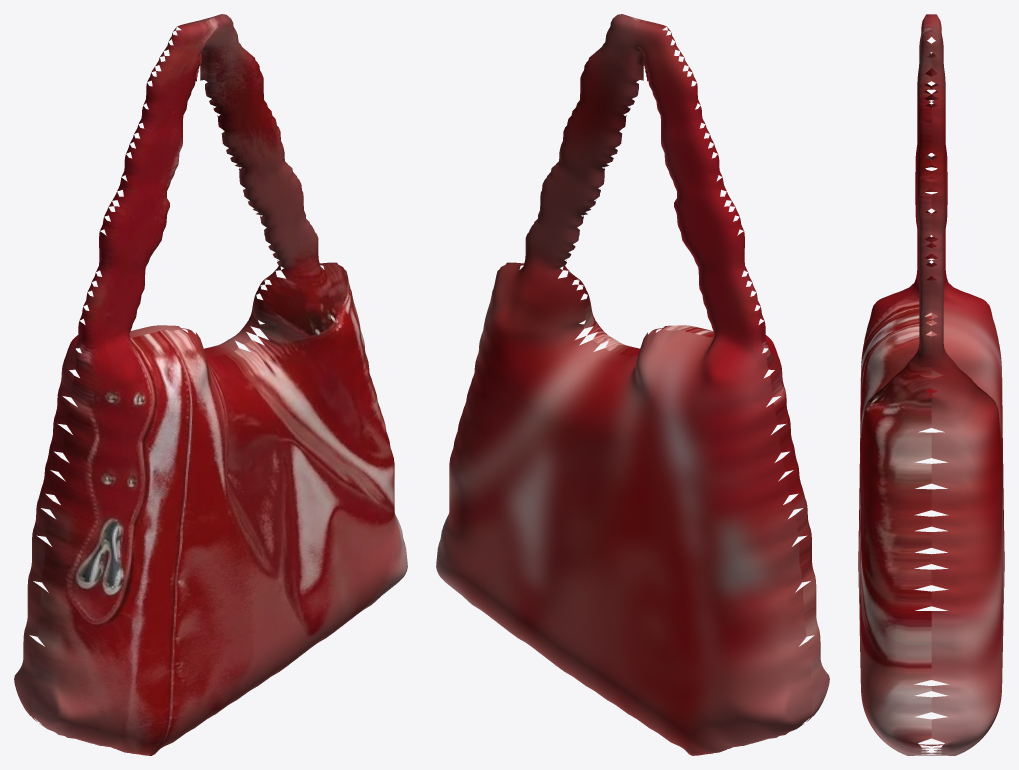
File: arenal-red.glb
The picture shows the model from 3 angles, left to right: view 1: azimuth 30°, elevation 25°; view 2: azimuth 150°, elevation 25°; view 3: azimuth 270°, elevation 25°; orthographic projection. The views are drawn at different scales.
Visible parts, largest first — view 1: arenal-red; view 2: arenal-red; view 3: arenal-red.
Part boxes in pixels (x1,y1,x2,y2): arenal-red: (14,14,407,755); arenal-red: (436,14,829,755); arenal-red: (858,14,1004,755).
Size of the model in its own units: 0.36 by 0.6643 by 0.1165.
2 materials, 2 textured.
